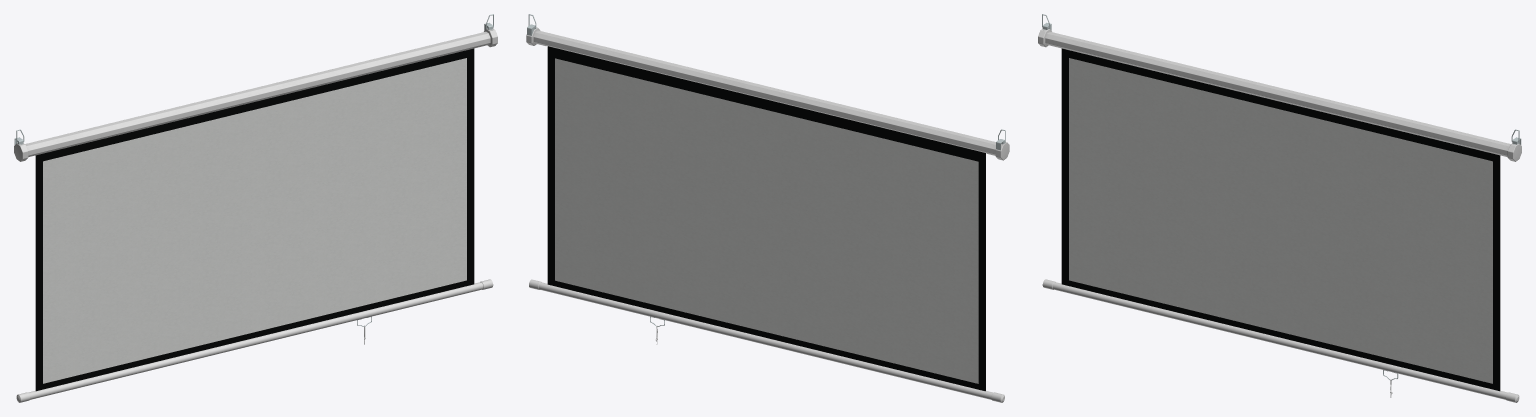
File: screen.fbx
3 renders of one model, left to right at view 1: azimuth 30°, elevation 25°; view 2: azimuth 150°, elevation 25°; view 3: azimuth 330°, elevation 25°, orthographic.
Parts seen in each view (by area): view 1: screen_projector_wall; view 2: screen_projector_wall; view 3: screen_projector_wall.
Boxes of the visible parts, box(x1,y1,x2,y2) form: screen_projector_wall: box(14, 14, 497, 402); screen_projector_wall: box(526, 14, 1009, 402); screen_projector_wall: box(1038, 14, 1521, 402).
Bounding box in the file's own units: 5749 × 3442 × 184.
